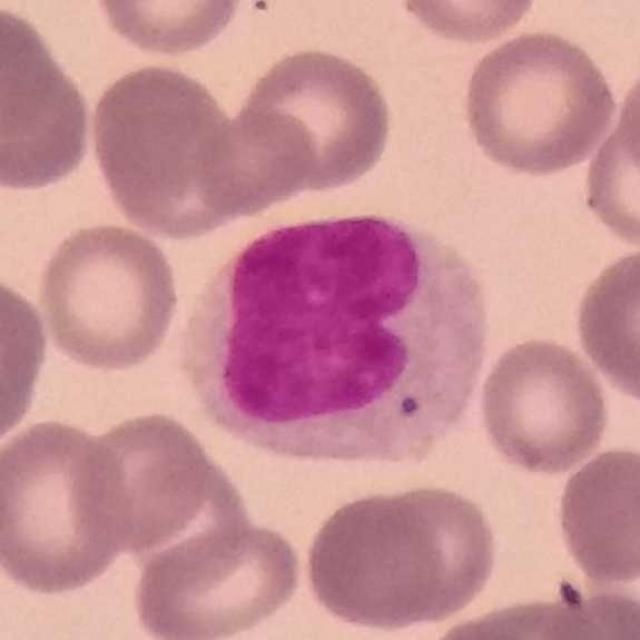Monocyte: (186, 212, 486, 472)
RBC: (85, 57, 242, 238), (234, 42, 397, 195), (0, 414, 134, 599), (458, 26, 621, 178), (34, 218, 184, 375), (127, 515, 307, 640), (288, 492, 440, 640), (68, 405, 216, 554), (474, 333, 614, 477), (361, 486, 511, 617), (0, 29, 96, 197), (551, 442, 640, 590), (570, 240, 640, 411), (0, 269, 52, 457), (90, 0, 253, 59), (577, 101, 640, 253), (0, 1, 66, 145), (393, 0, 543, 47), (530, 582, 640, 640), (438, 605, 586, 640), (612, 52, 640, 192)
